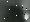person: (24, 7, 30, 19)
